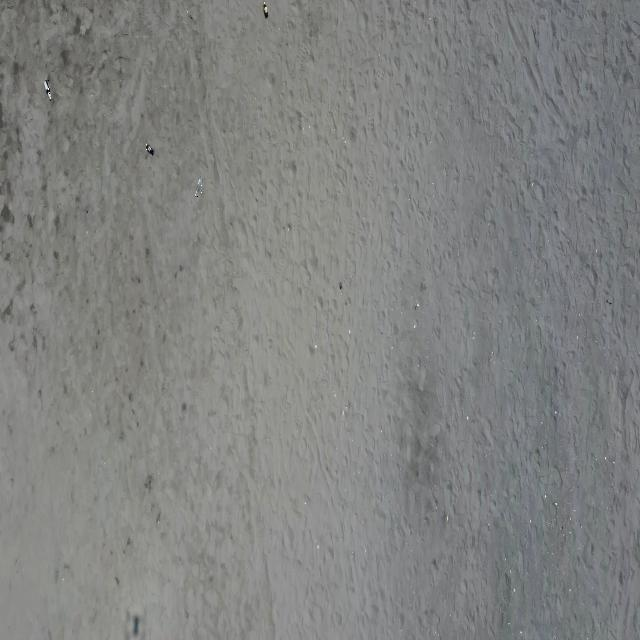glass: (194, 176, 203, 197), (44, 80, 51, 101), (146, 143, 154, 155), (263, 2, 268, 18)
